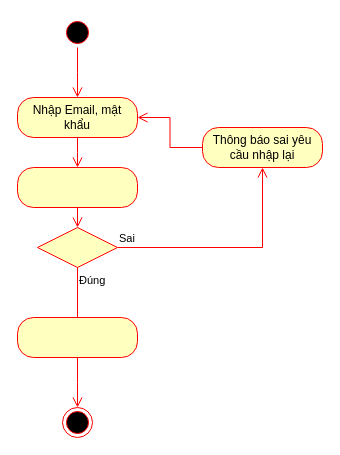
This 340x455 diagram has some shape labels left out. Each missing label, with the box of its shape:
Nhấn đăng nhập: (16, 166, 138, 208)
Đến giao diện: (16, 316, 138, 358)
